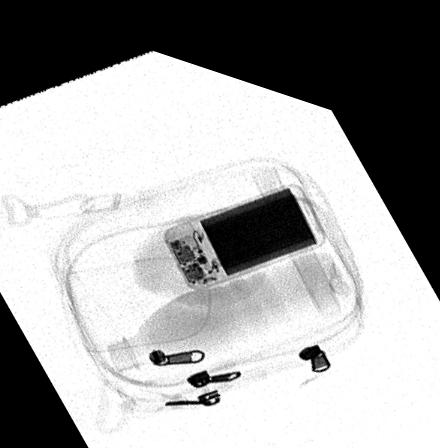Powerbank: (159, 161, 328, 277)
